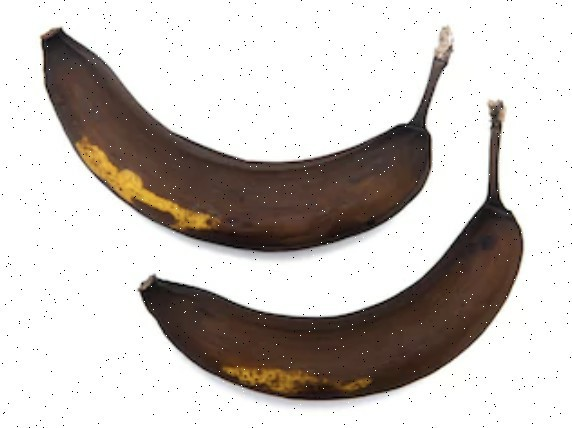rotten_banana: (41, 30, 437, 248), (135, 209, 539, 399)
